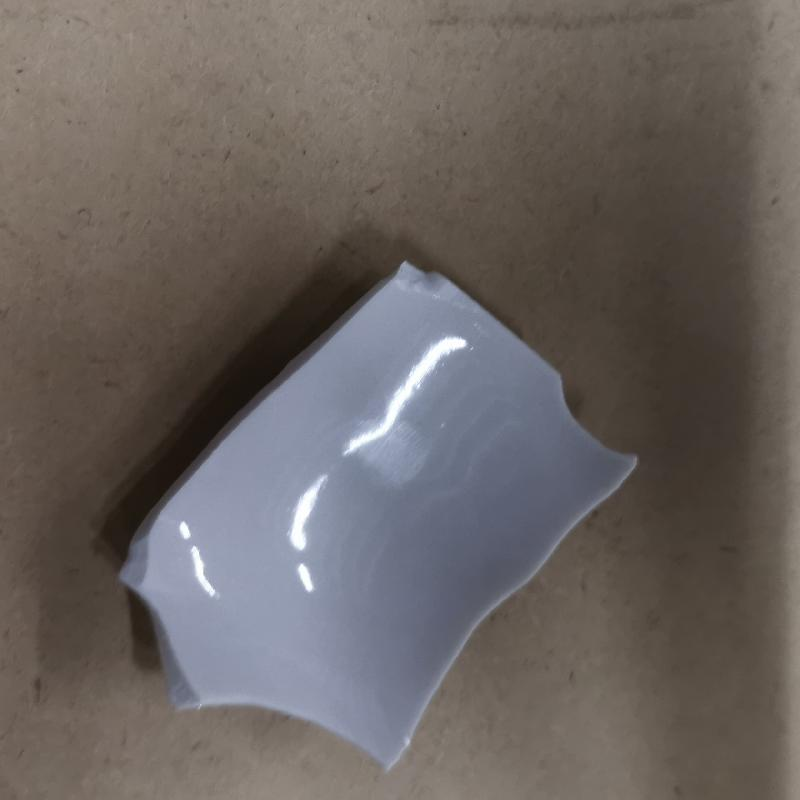ceram: (107, 250, 639, 800)
